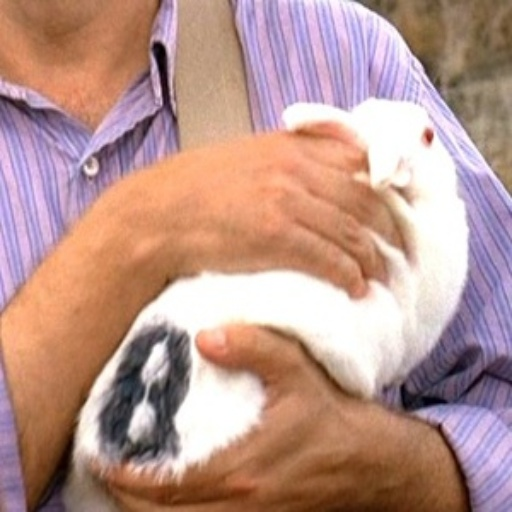hand: (61, 260, 440, 512), (167, 123, 404, 296)
